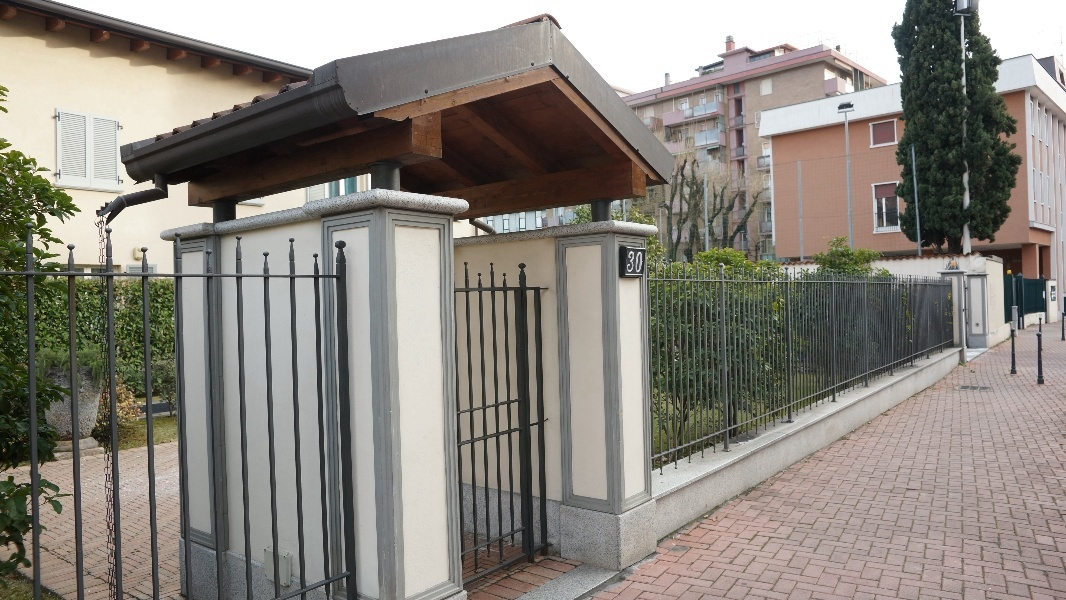text: (629, 250, 640, 274), (641, 250, 644, 274)
